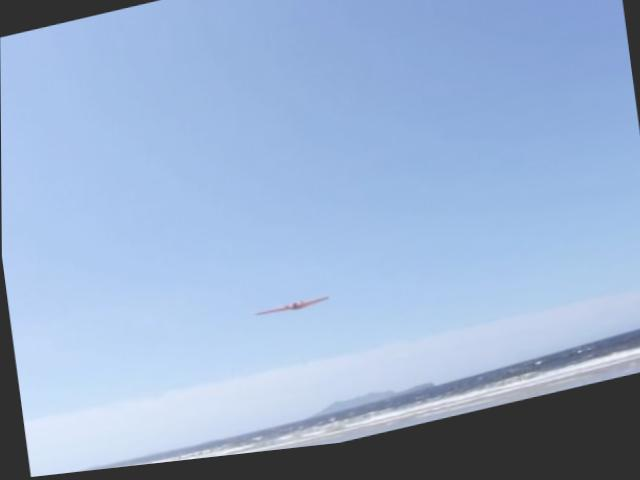flying wing: (252, 300, 331, 329)
